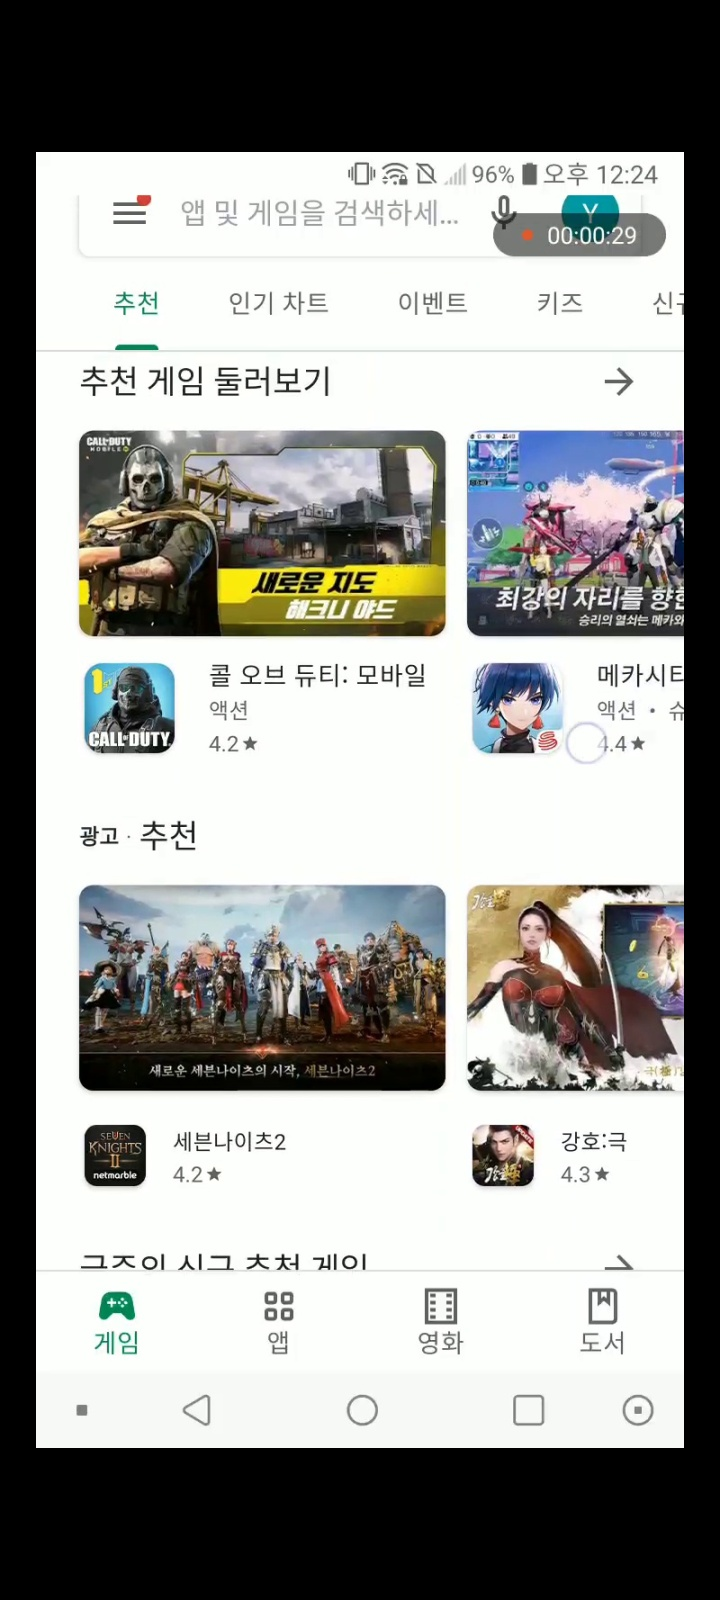Cursor: (564, 721, 609, 766)
